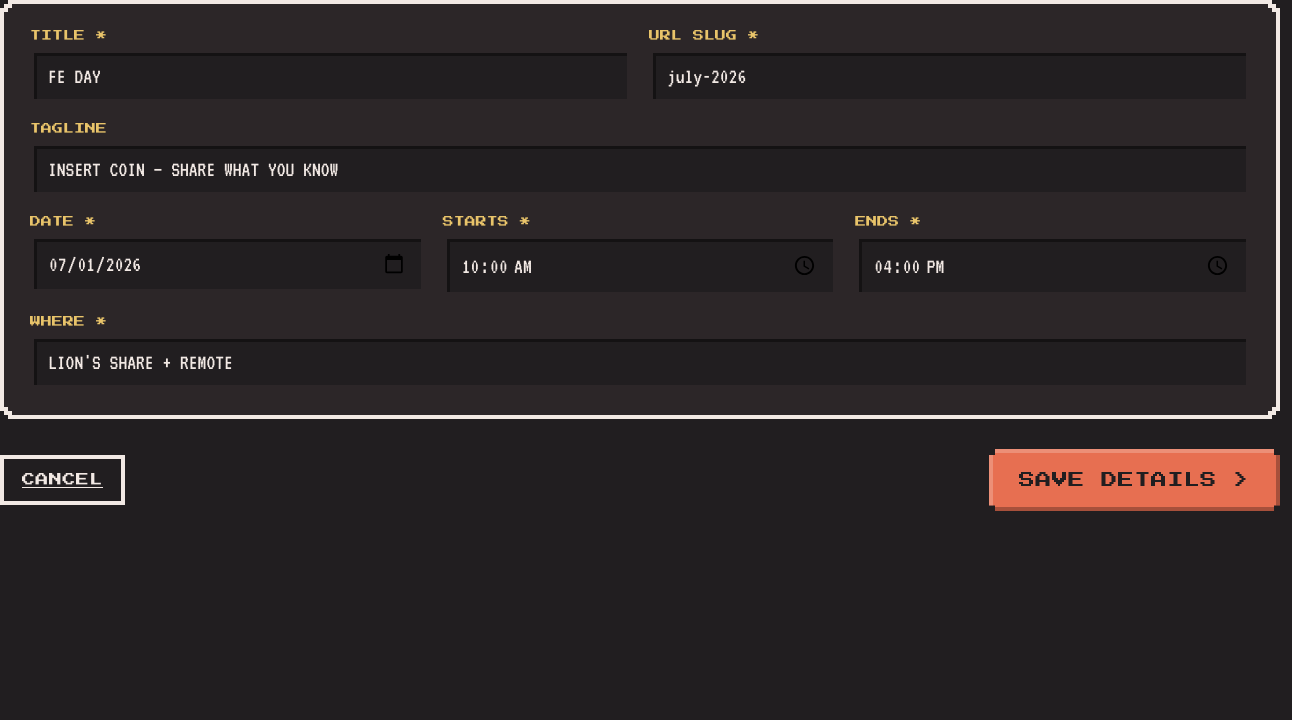
Test: EventForm › locks the slug and hides the copy option when editing an existing event
Expected: the field labelled "URL SLUG *" is disabled, [649,49,1250,103]
Type "THE BIG ROOM" into the field labelled "WHERE *" at point(640, 362), box [30,335,1250,389]
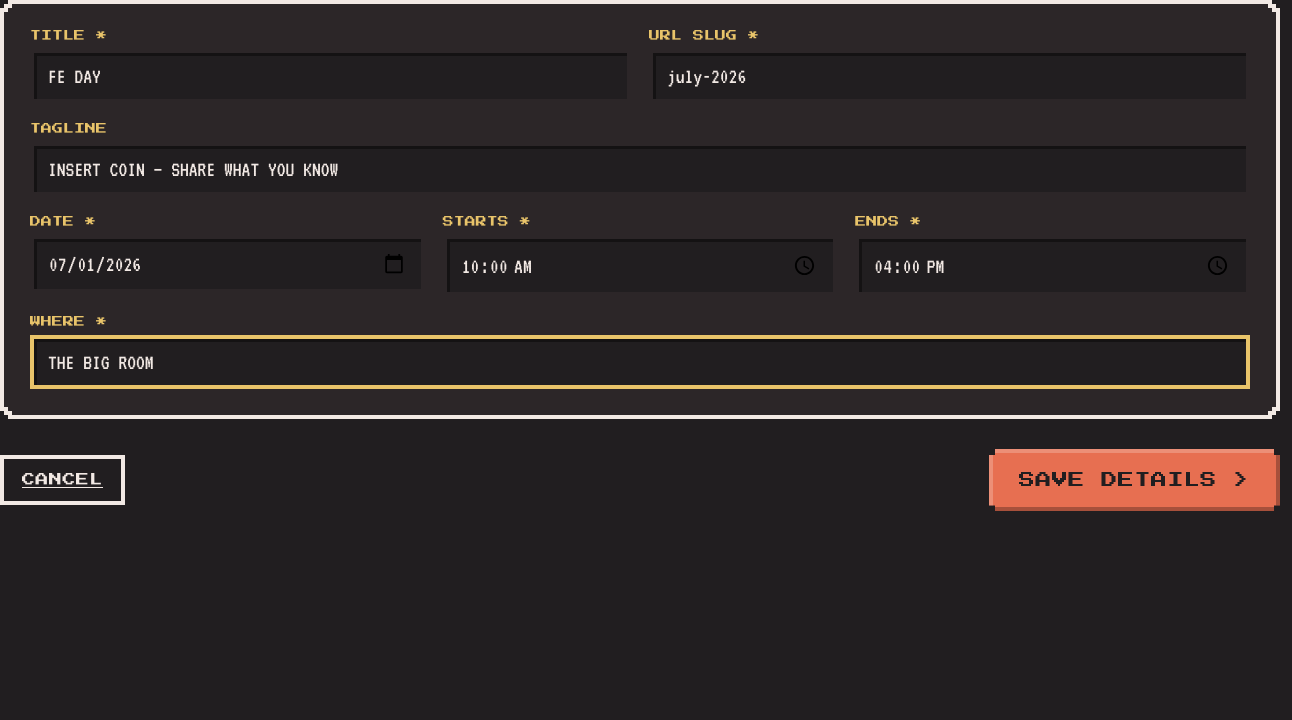
Click the button "SAVE DETAILS >" at point(1134, 480), box [989,449,1280,512]
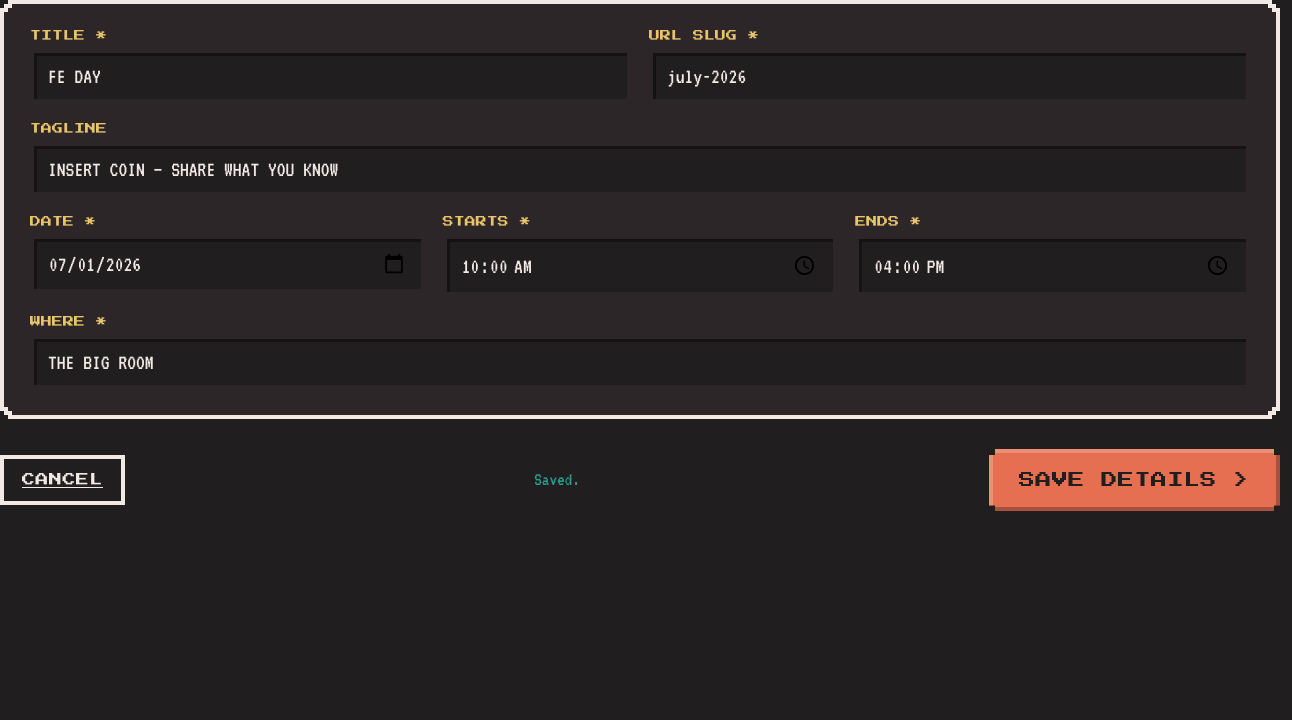
Now the message reads "Saved.", box [534,470,580,489]
